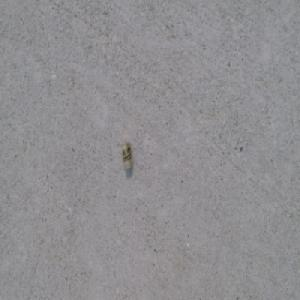BoltNutSet: (122, 141, 134, 168)
